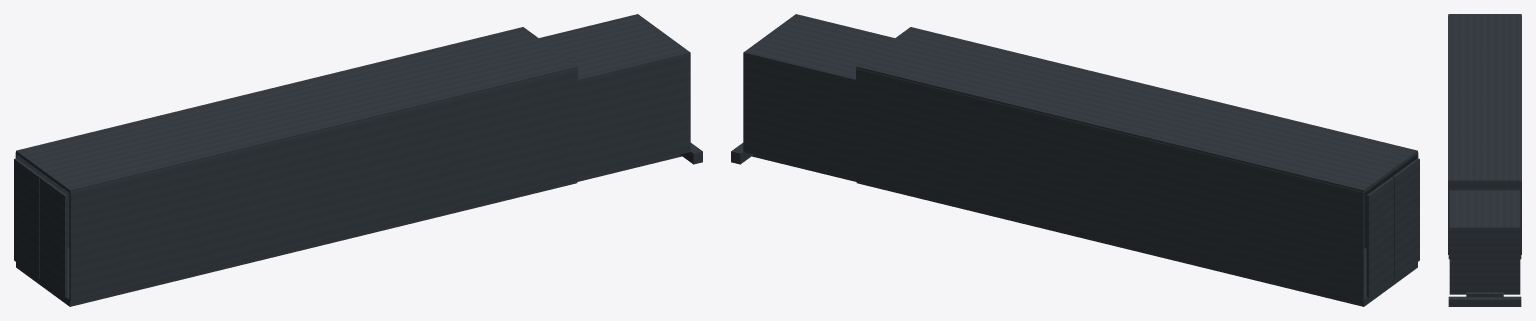
Rendered from PZ_IRONVALE_SIMPLE_COLLISION_ONLY.glb.
The picture shows the model from 3 angles, left to right: view 1: azimuth 30°, elevation 25°; view 2: azimuth 150°, elevation 25°; view 3: azimuth 270°, elevation 25°; orthographic projection. The views are drawn at different scales.
Parts seen in each view (by area): view 1: UCX_Trailer_RightSide_02, UCX_Trailer_Roof_03, UCX_Tractor_Cab_00, UCX_Trailer_Floor_00, UCX_Trailer_RearDoorR_06, UCX_Trailer_RearDoorL_05; view 2: UCX_Trailer_LeftSide_01, UCX_Trailer_Roof_03, UCX_Tractor_Cab_00, UCX_Trailer_Floor_00, UCX_Trailer_RearDoorL_05, UCX_Trailer_RearDoorR_06; view 3: UCX_Trailer_Roof_03, UCX_Tractor_Cab_00, UCX_Trailer_FrontWall_04, UCX_Tractor_FrontBumper_02, UCX_Trailer_LeftSide_01, UCX_Trailer_RightSide_02, UCX_Tractor_Chassis_01.
Part boxes in pixels (<box>): UCX_Trailer_RightSide_02: <box>69,68,577,300</box>; UCX_Trailer_Roof_03: <box>16,27,577,192</box>; UCX_Tractor_Cab_00: <box>539,14,690,179</box>; UCX_Trailer_Floor_00: <box>16,177,577,306</box>; UCX_Trailer_RearDoorR_06: <box>40,177,67,297</box>; UCX_Trailer_RearDoorL_05: <box>14,158,41,278</box>; UCX_Trailer_LeftSide_01: <box>856,68,1364,300</box>; UCX_Trailer_Roof_03: <box>856,27,1417,192</box>; UCX_Tractor_Cab_00: <box>743,14,894,179</box>; UCX_Trailer_Floor_00: <box>856,177,1417,306</box>; UCX_Trailer_RearDoorL_05: <box>1366,177,1393,297</box>; UCX_Trailer_RearDoorR_06: <box>1392,158,1419,278</box>; UCX_Trailer_Roof_03: <box>1448,14,1521,181</box>; UCX_Tractor_Cab_00: <box>1449,190,1520,294</box>; UCX_Trailer_FrontWall_04: <box>1448,182,1521,254</box>; UCX_Tractor_FrontBumper_02: <box>1448,296,1521,306</box>; UCX_Trailer_LeftSide_01: <box>1521,15,1521,254</box>; UCX_Trailer_RightSide_02: <box>1448,15,1448,254</box>; UCX_Tractor_Chassis_01: <box>1466,292,1503,297</box>.
Bounding box in the file's own units: 17.06 × 3.29 × 2.55.
Materials: 1 (1 with a texture image).
